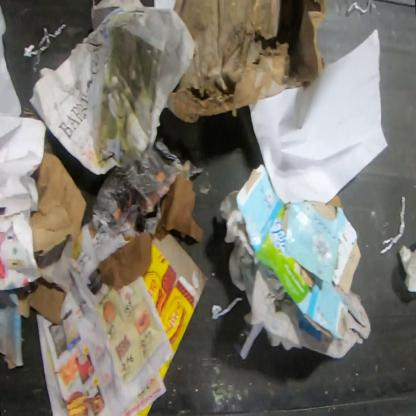cardboard: (233, 164, 360, 341), (167, 0, 329, 123), (142, 231, 208, 356), (30, 150, 88, 250), (27, 277, 65, 327)
